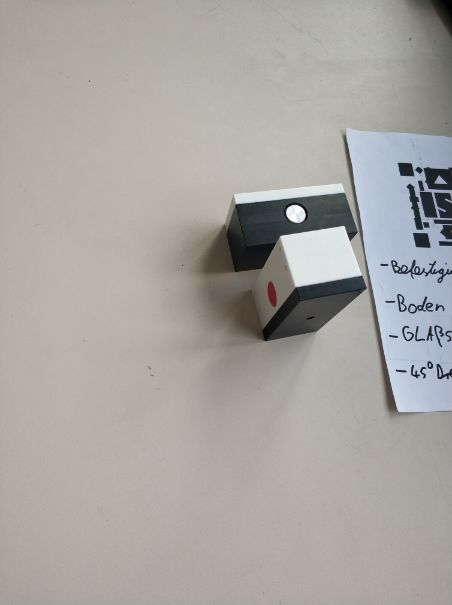black+white+red: (249, 223, 366, 345)
white+black+silver: (223, 182, 361, 272)
